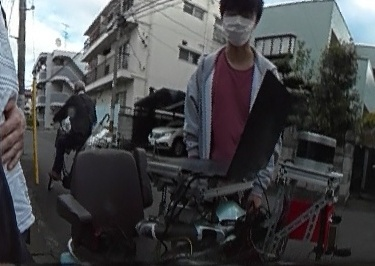person: (188, 2, 281, 161), (53, 75, 90, 181)
